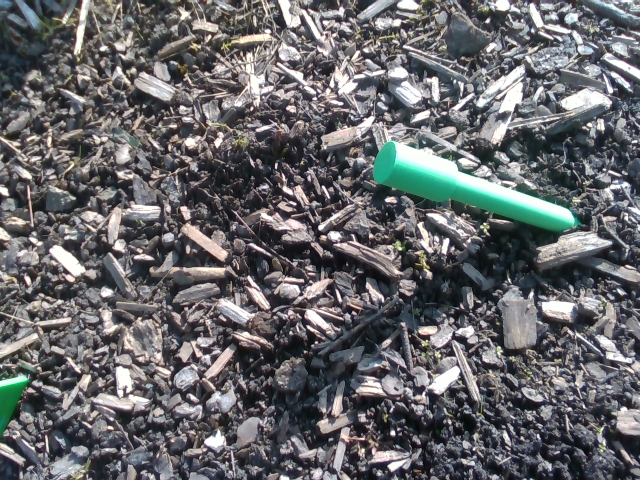Probe: (362, 132, 599, 246)
